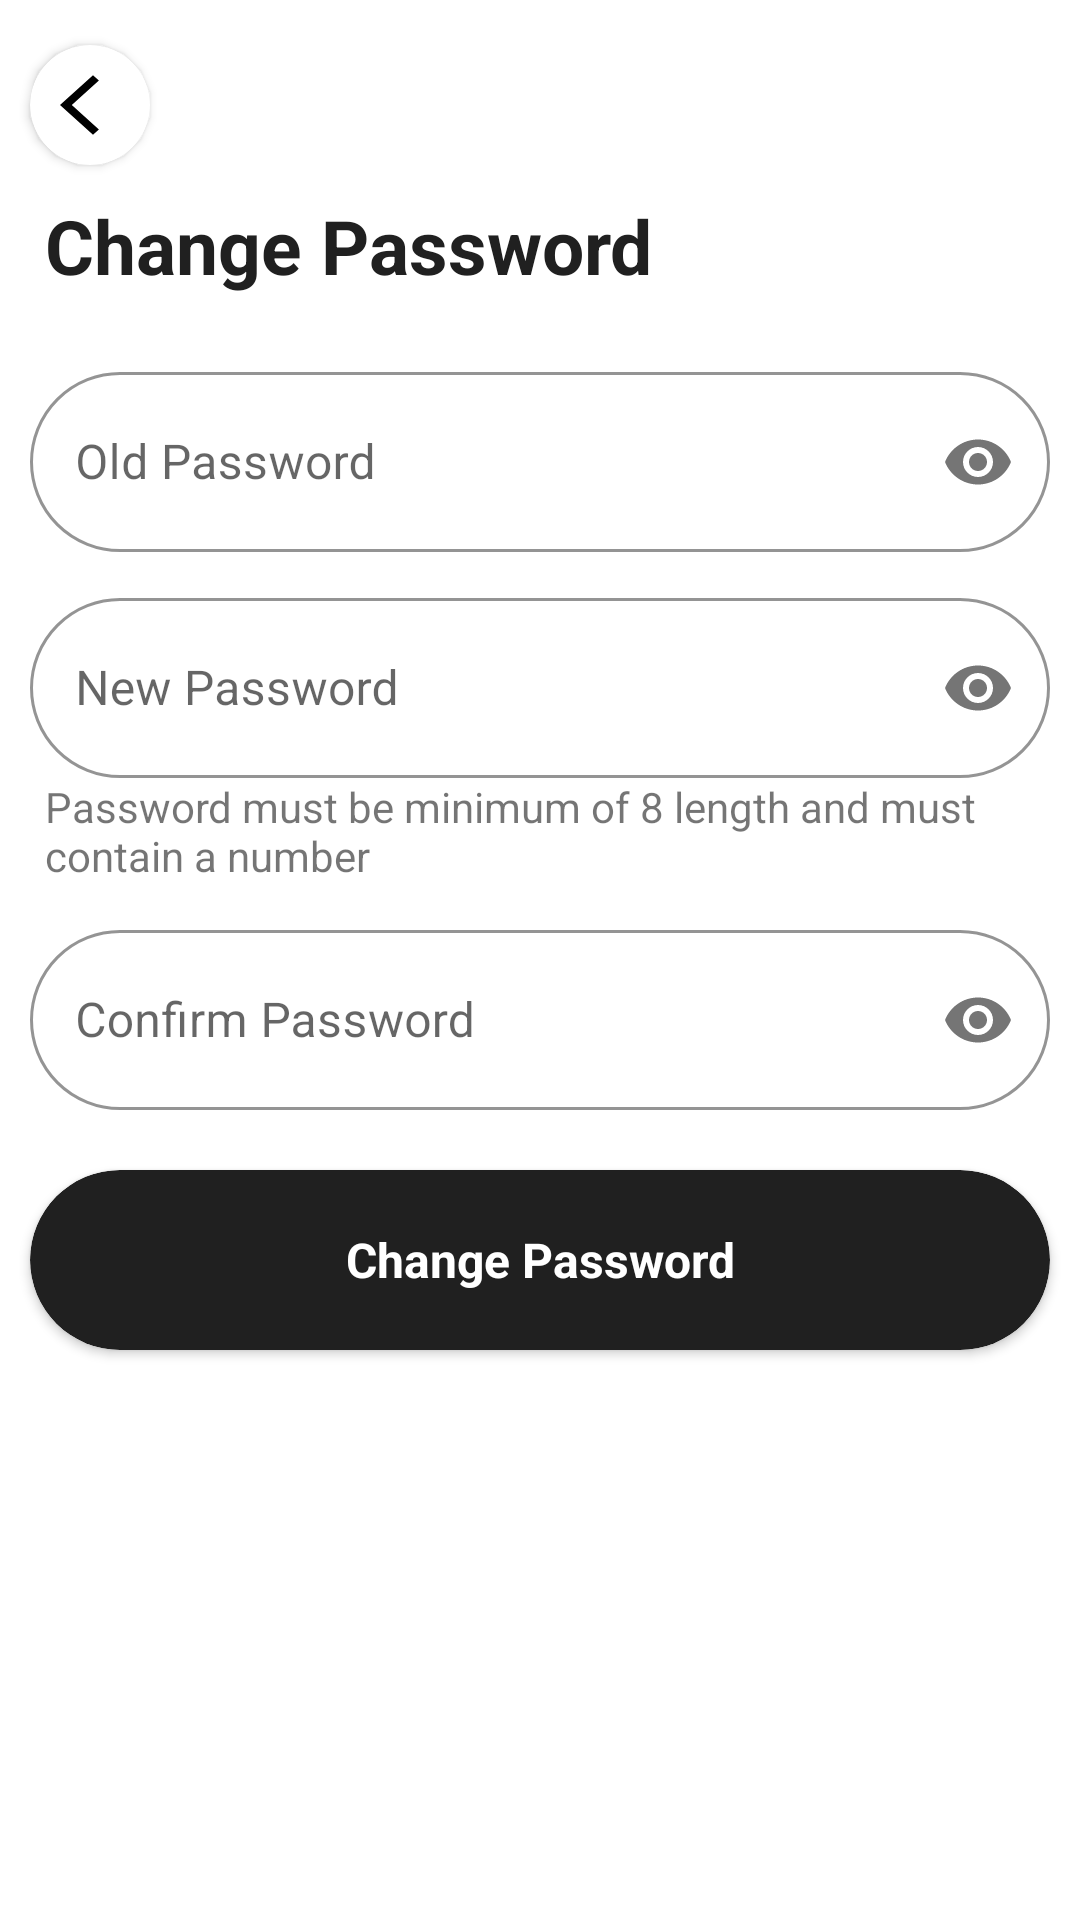

Icons on this 1080×1920 Android screen, each with the point to tap as [x,y]:
back: [79,105]
